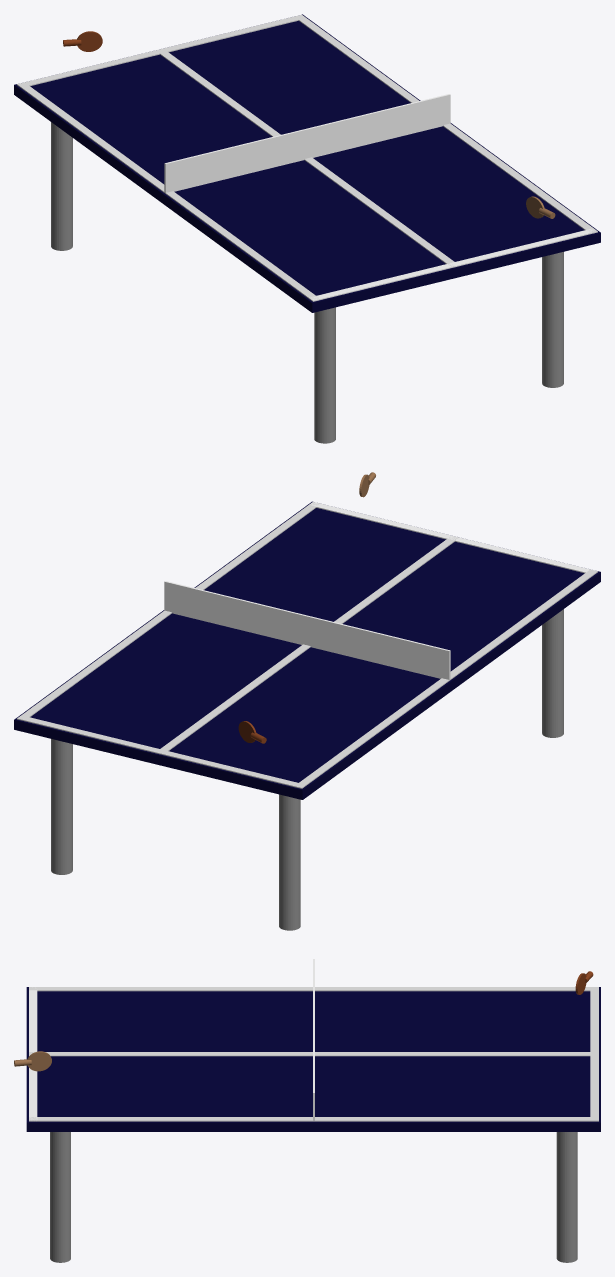
Rendered from pingpong.fbx.
3 views of the same model, one above another, from view 1: azimuth 30°, elevation 25°; view 2: azimuth 150°, elevation 25°; view 3: azimuth 270°, elevation 25° (orthographic). The views are drawn at different scales.
Visible parts, largest first — view 1: Cube.002, Cube.003, Cube.001, Cylinder.002, Cylinder.003, Cylinder.001; view 2: Cube.002, Cube.003, Cube.001, Cylinder.001, Cylinder, Cylinder.002; view 3: Cube.002, Cube.003, Cylinder, Cylinder.003, Cylinder.006.
Boxes of the visible parts, x1,y1,x2,y2 form: Cube.002: (14, 14, 600, 312); Cube.003: (17, 14, 597, 301); Cube.001: (164, 94, 450, 192); Cylinder.002: (314, 307, 335, 443); Cylinder.003: (542, 252, 563, 387); Cylinder.001: (51, 122, 72, 250); Cube.002: (14, 501, 600, 799); Cube.003: (17, 502, 597, 788); Cube.001: (164, 581, 450, 679); Cylinder.001: (279, 794, 300, 930); Cylinder: (51, 739, 72, 874); Cylinder.002: (542, 609, 563, 737); Cube.002: (26, 987, 600, 1131); Cube.003: (29, 987, 598, 1121); Cylinder: (556, 1132, 577, 1262); Cylinder.003: (50, 1132, 70, 1262); Cylinder.006: (14, 1051, 51, 1071).
Bounding box in the file's own units: 3040 × 2020 × 5561.
